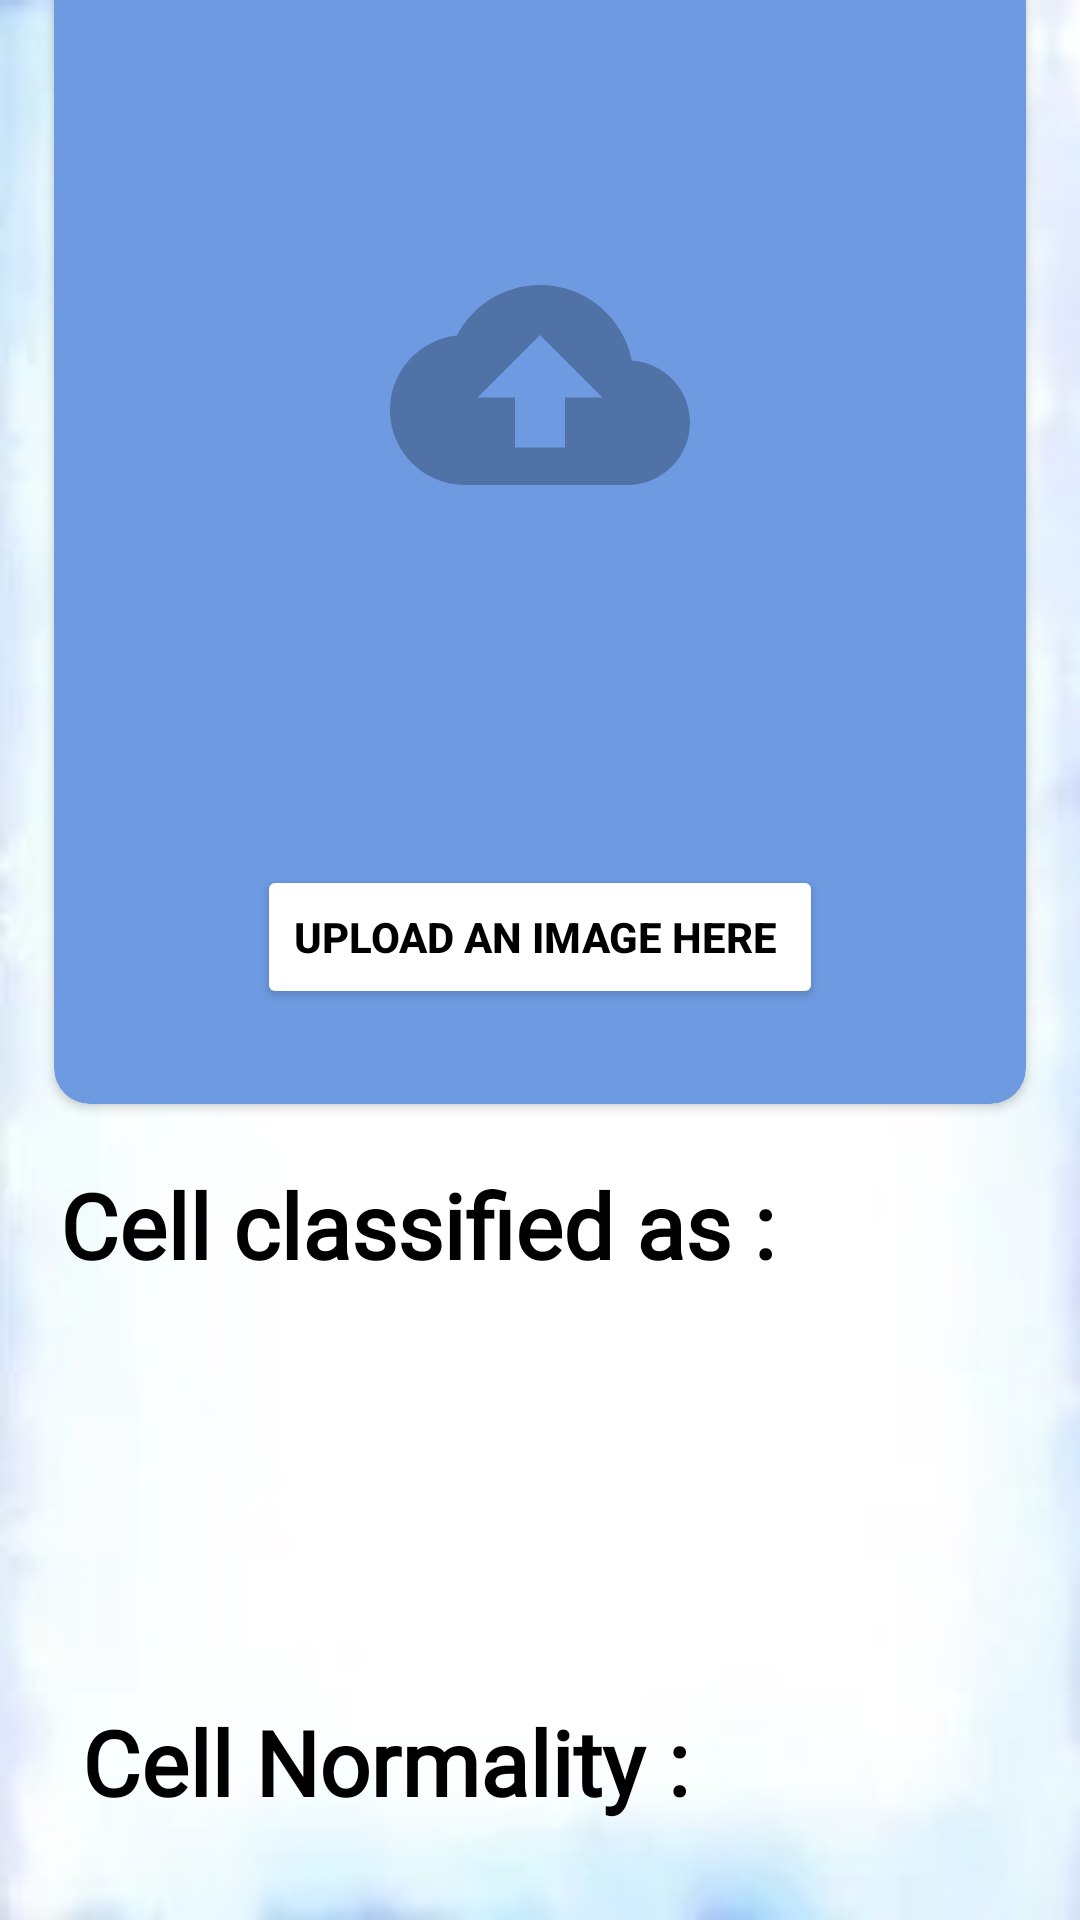

Icon bounding boxes for this 1080w x 1920h phone screenshot, format (x1, y1, x2, y2):
uploadicon: (390, 285, 690, 485)
